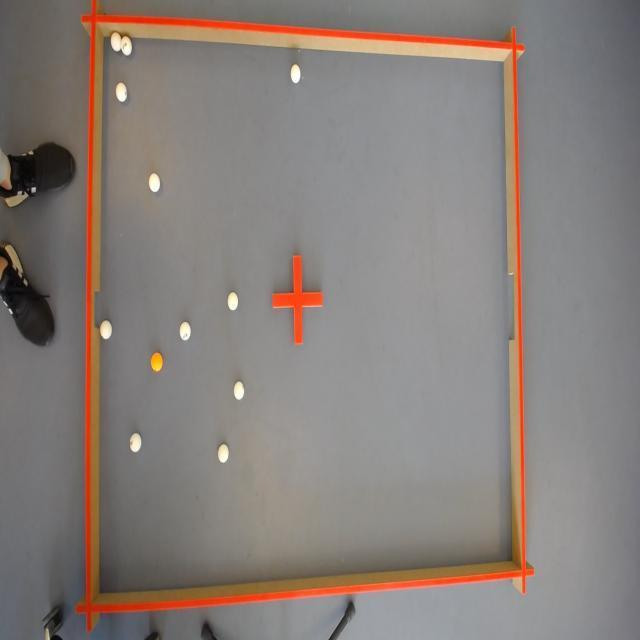orange: (152, 353, 164, 374)
white: (178, 321, 192, 344), (116, 83, 130, 104), (98, 317, 112, 338), (290, 62, 303, 83), (228, 290, 240, 312), (148, 172, 160, 192), (130, 430, 140, 454), (233, 378, 244, 399), (112, 31, 122, 53), (220, 442, 230, 463), (122, 36, 132, 56)
